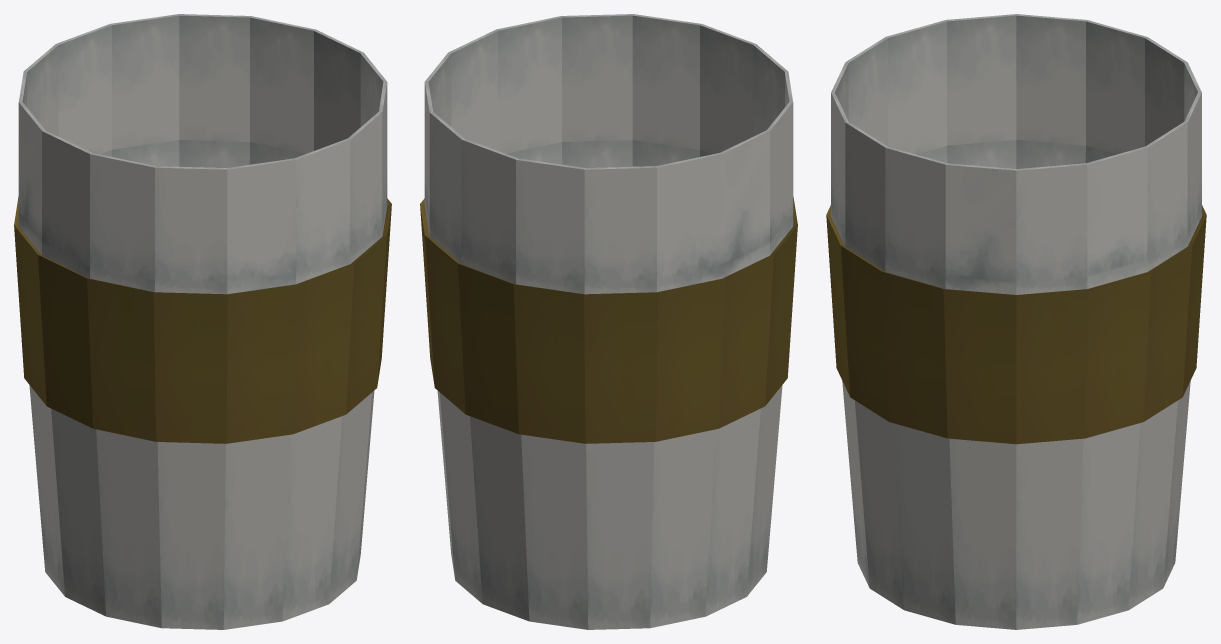
Rendered from KaffeBecher.fbx.
3 views of the same model, side by side, from view 1: azimuth 30°, elevation 25°; view 2: azimuth 150°, elevation 25°; view 3: azimuth 270°, elevation 25° (orthographic).
Visible parts, largest first — view 1: KaffeBecher; view 2: KaffeBecher; view 3: KaffeBecher.
Boxes of the visible parts, left/top/right/bottom form: KaffeBecher: left=14, top=14, right=391, bottom=629; KaffeBecher: left=420, top=14, right=797, bottom=629; KaffeBecher: left=826, top=14, right=1206, bottom=629.
Bounding box in the file's own units: 20.52 × 28 × 20.52.
